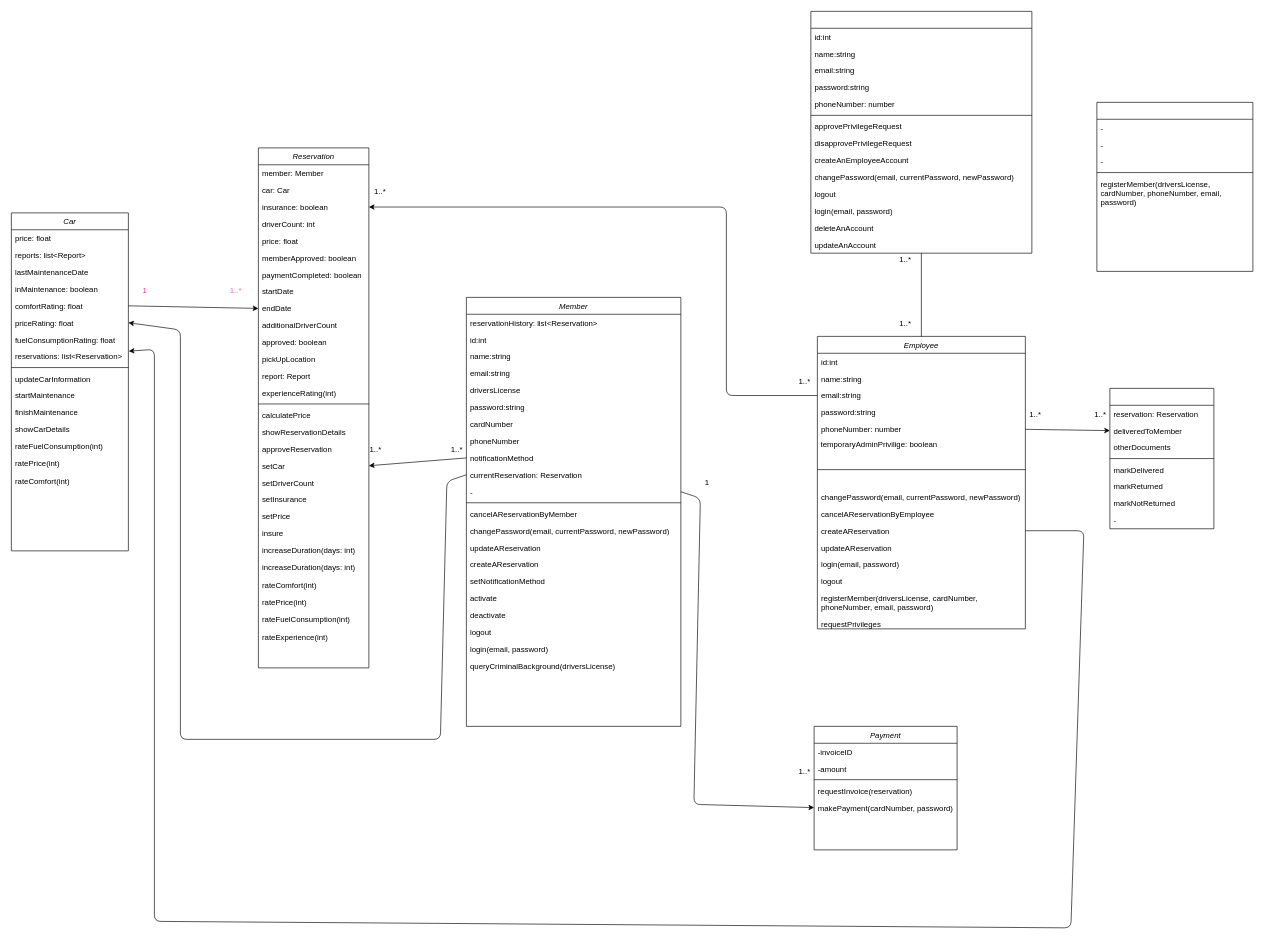
Image size: 1264x944. Some labels were removed from this diagram. Each missing label, with the box of its shape:
Admin: (810, 11, 1032, 253)
Guest: (1096, 102, 1253, 271)
Report: (1109, 388, 1214, 529)
